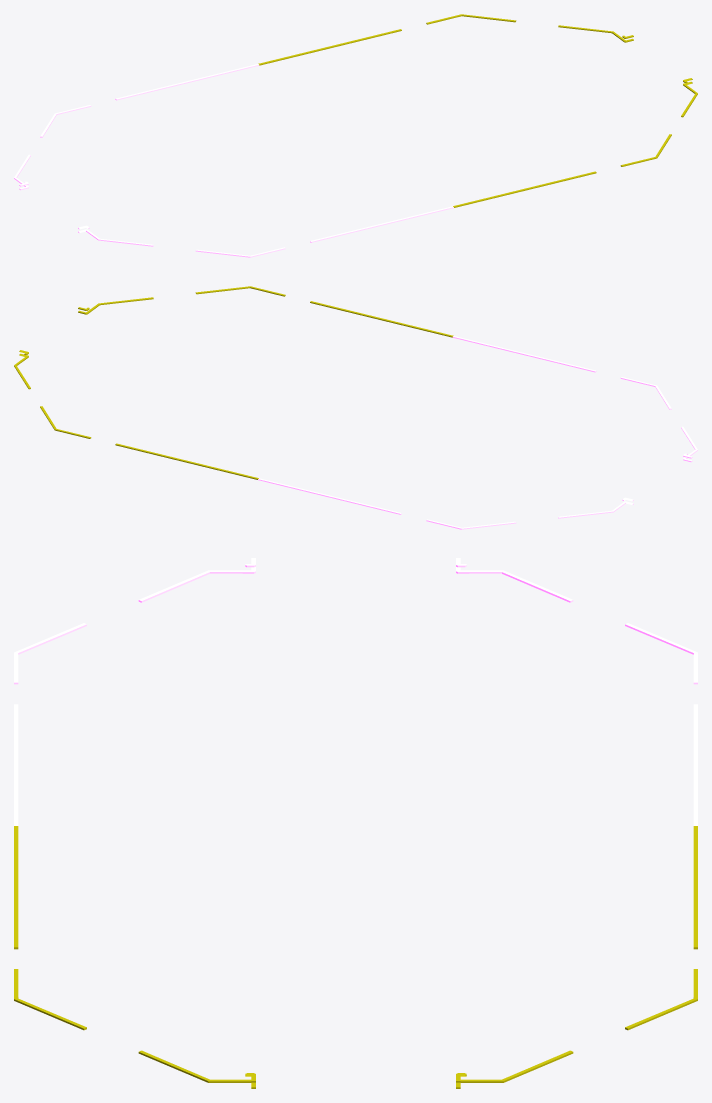
File: mesh_Spaceship_Hockey_LightLine.fbx
3 renders of one model, top to bottom at view 1: azimuth 30°, elevation 25°; view 2: azimuth 150°, elevation 25°; view 3: azimuth 270°, elevation 25°, orthographic. The views are drawn at different scales.
Parts seen in each view (by area): view 1: mesh_Spaceship_LightLine.003, mesh_Spaceship_LightLine.006, mesh_Spaceship_LightLine.014, mesh_Spaceship_LightLine.017; view 2: mesh_Spaceship_LightLine.003, mesh_Spaceship_LightLine.006, mesh_Spaceship_LightLine.017, mesh_Spaceship_LightLine.014; view 3: no part large enough to name.
Boxes of the visible parts, bbox=[...] form: mesh_Spaceship_LightLine.003: bbox=[115, 64, 259, 100]; mesh_Spaceship_LightLine.006: bbox=[310, 206, 453, 242]; mesh_Spaceship_LightLine.014: bbox=[258, 29, 401, 65]; mesh_Spaceship_LightLine.017: bbox=[453, 171, 596, 207]; mesh_Spaceship_LightLine.003: bbox=[258, 478, 401, 514]; mesh_Spaceship_LightLine.006: bbox=[452, 336, 596, 372]; mesh_Spaceship_LightLine.017: bbox=[310, 301, 453, 337]; mesh_Spaceship_LightLine.014: bbox=[115, 443, 258, 479].
Bounding box in the file's own units: 58.77 × 0.4239 × 32.5.
